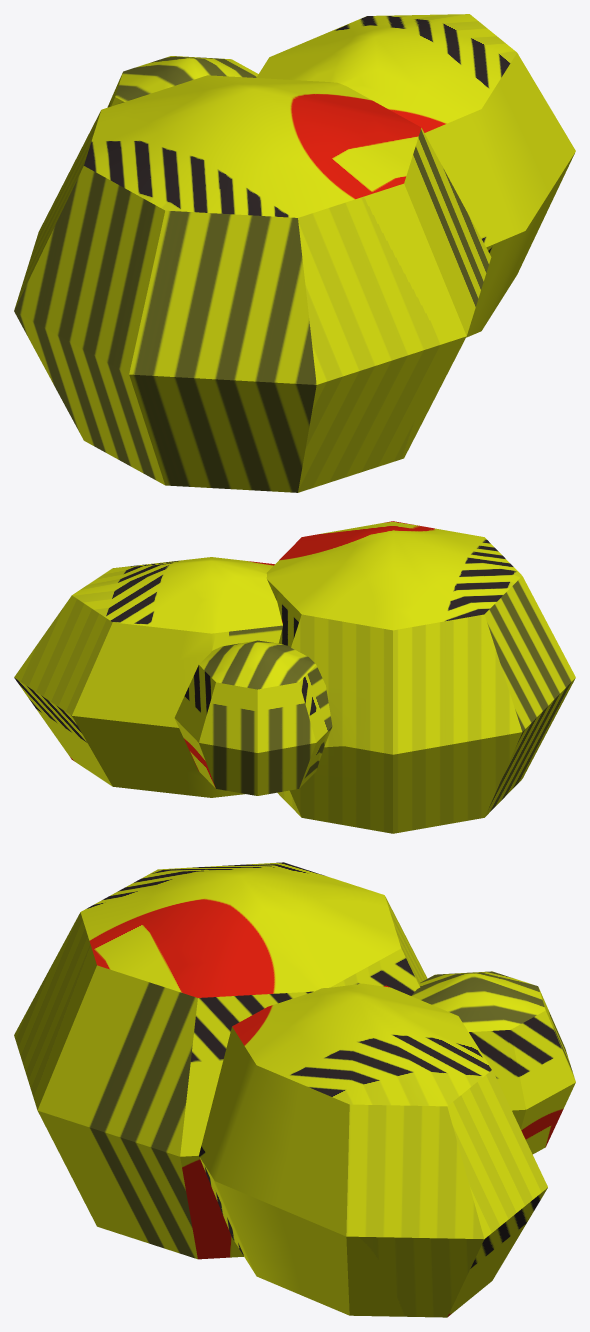
Rendered from cloud1.fbx.
3 views of the same model, one above another, from view 1: azimuth 30°, elevation 25°; view 2: azimuth 150°, elevation 25°; view 3: azimuth 270°, elevation 25° (orthographic). The views are drawn at different scales.
Parts seen in each view (by area): view 1: Sphere002; view 2: Sphere002; view 3: Sphere002.
Part boxes in pixels (x1,y1,x2,y2): Sphere002: (14, 14, 575, 492); Sphere002: (14, 521, 575, 833); Sphere002: (14, 862, 575, 1317).
Bounding box in the file's own units: 301 × 189 × 261.
